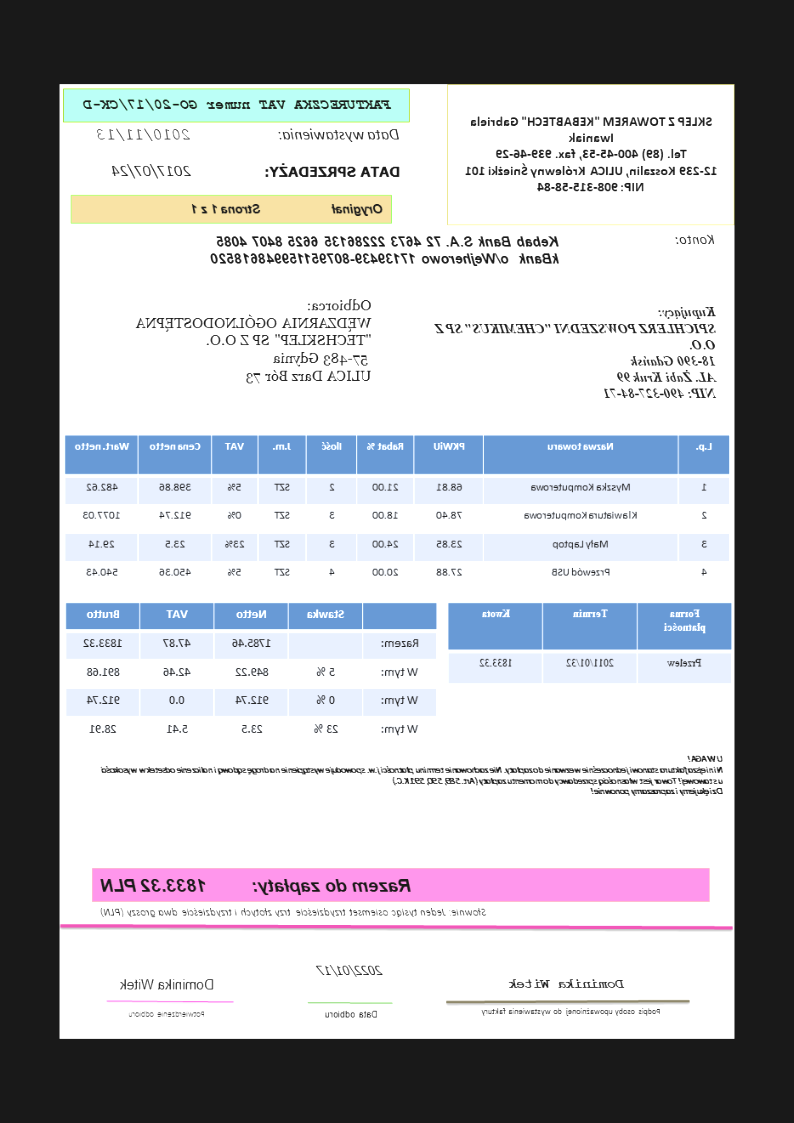Table: (63, 431, 733, 591), (65, 601, 440, 746), (449, 601, 733, 685)
TextBox: (100, 751, 727, 799), (431, 304, 718, 404), (132, 293, 374, 390), (461, 110, 719, 197), (207, 230, 563, 270), (97, 874, 416, 897), (96, 904, 489, 919), (77, 95, 395, 111), (189, 200, 387, 219), (263, 161, 403, 180), (277, 123, 401, 144), (479, 1005, 664, 1018), (505, 976, 628, 992), (116, 974, 217, 993), (95, 124, 191, 142), (111, 161, 194, 181), (310, 959, 384, 980), (127, 1006, 207, 1023), (671, 229, 719, 250), (323, 1007, 383, 1022)
